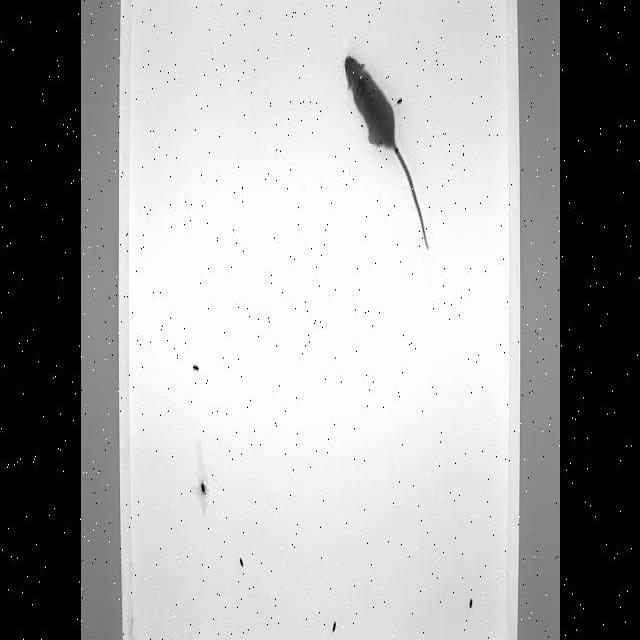rat: (340, 52, 433, 260)
